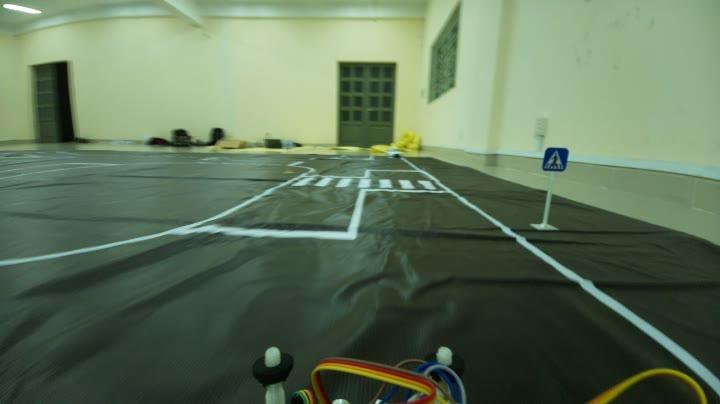crosswalk: (543, 139, 571, 179)
